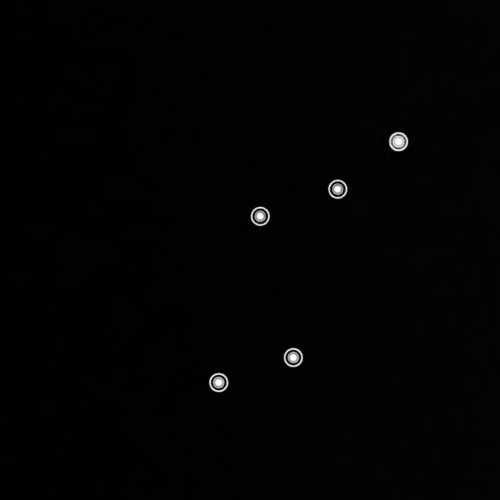lyra: (206, 125, 411, 399)
